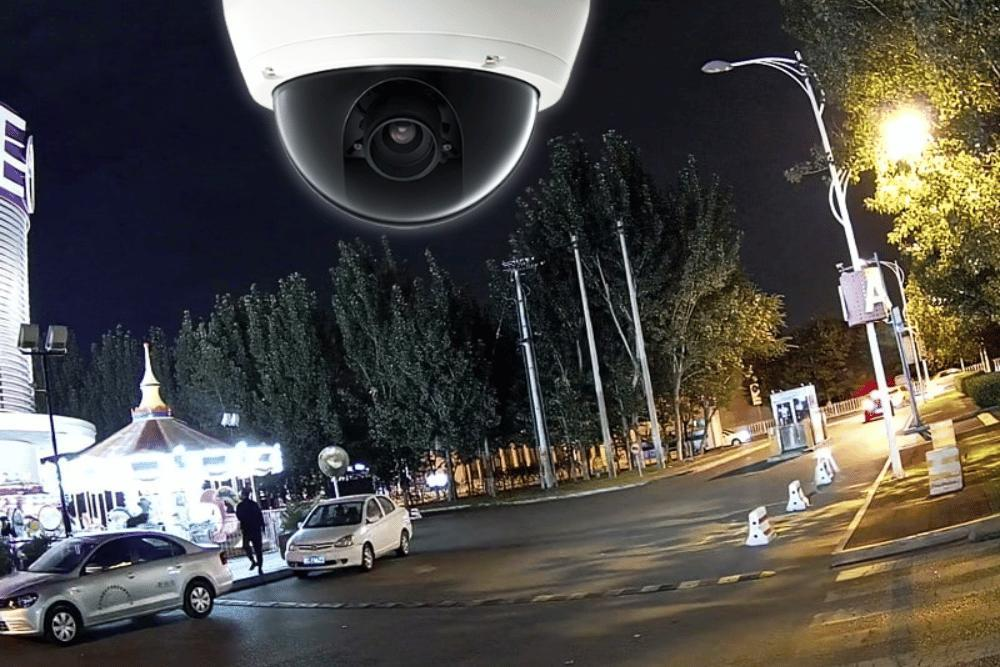camera: (175, 0, 625, 242)
